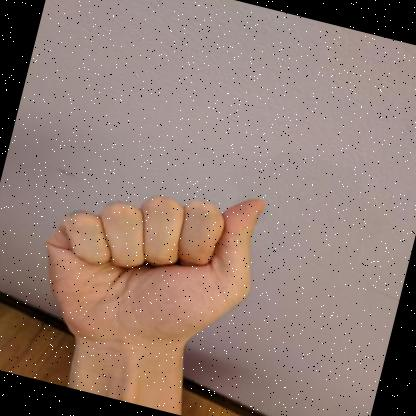A: (46, 196, 266, 378)
